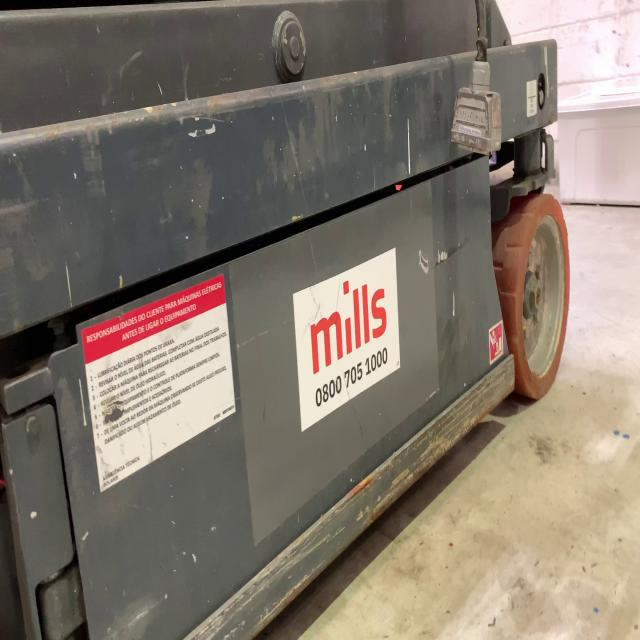Adesivos: (290, 241, 406, 440)
